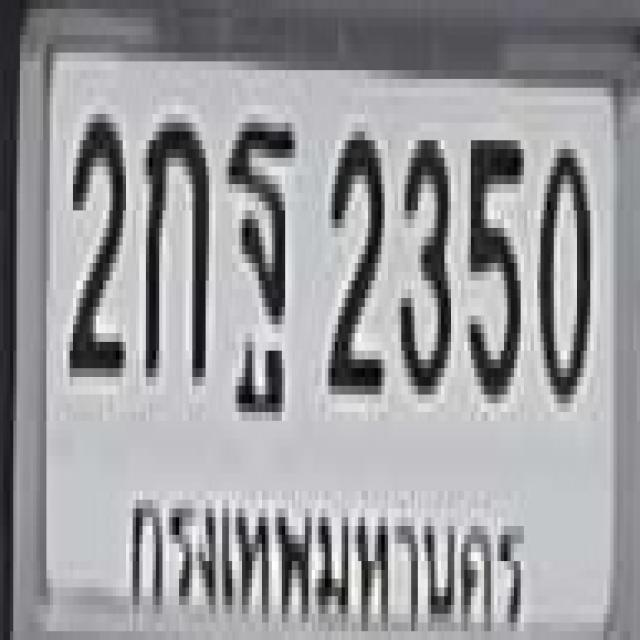0: (537, 140, 587, 394)
2: (66, 105, 123, 368), (325, 122, 381, 386)
3: (398, 132, 448, 386)
5: (464, 132, 521, 394)
A01: (142, 110, 205, 372)
A16: (225, 114, 292, 377)
BKK: (123, 470, 535, 640)
